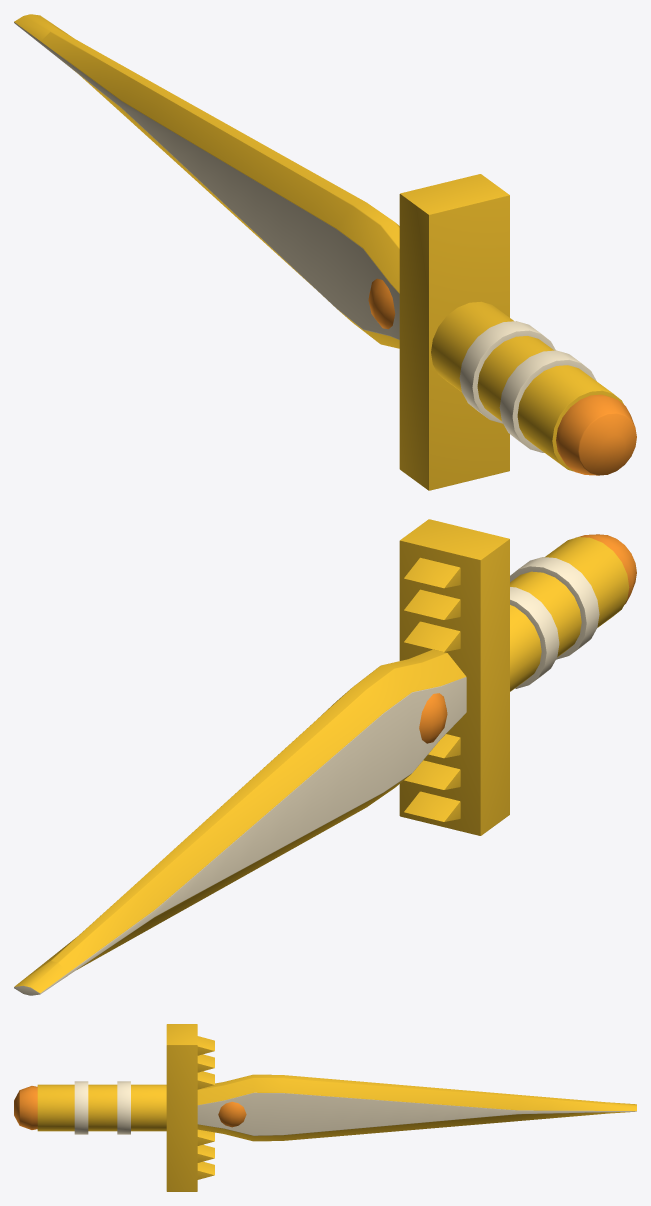
File: Sword_SunmoteShiv.glb
3 views of the same model, one above another, from view 1: azimuth 30°, elevation 25°; view 2: azimuth 150°, elevation 25°; view 3: azimuth 270°, elevation 25° (orthographic). The views are drawn at different scales.
Visible parts, largest first — view 1: Sword_SunmoteShiv; view 2: Sword_SunmoteShiv; view 3: Sword_SunmoteShiv.
Boxes of the visible parts, x1=… form: Sword_SunmoteShiv: x1=14, y1=14, x2=636, y2=490; Sword_SunmoteShiv: x1=14, y1=519, x2=636, y2=995; Sword_SunmoteShiv: x1=14, y1=1024, x2=636, y2=1191.
Bounding box in the file's own units: 0.086 × 0.26 × 1.
Materials: 1 (1 with a texture image).
